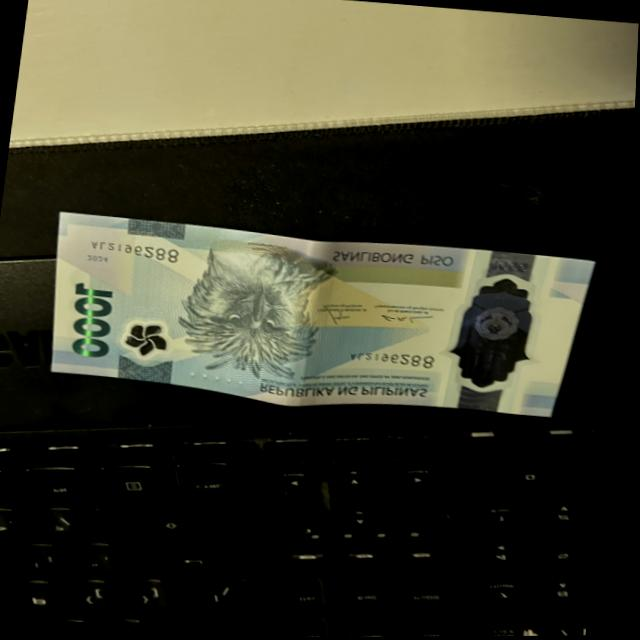clear_window: (453, 276, 547, 394)
eagle: (175, 236, 327, 382)
sampaguita: (130, 322, 179, 357)
